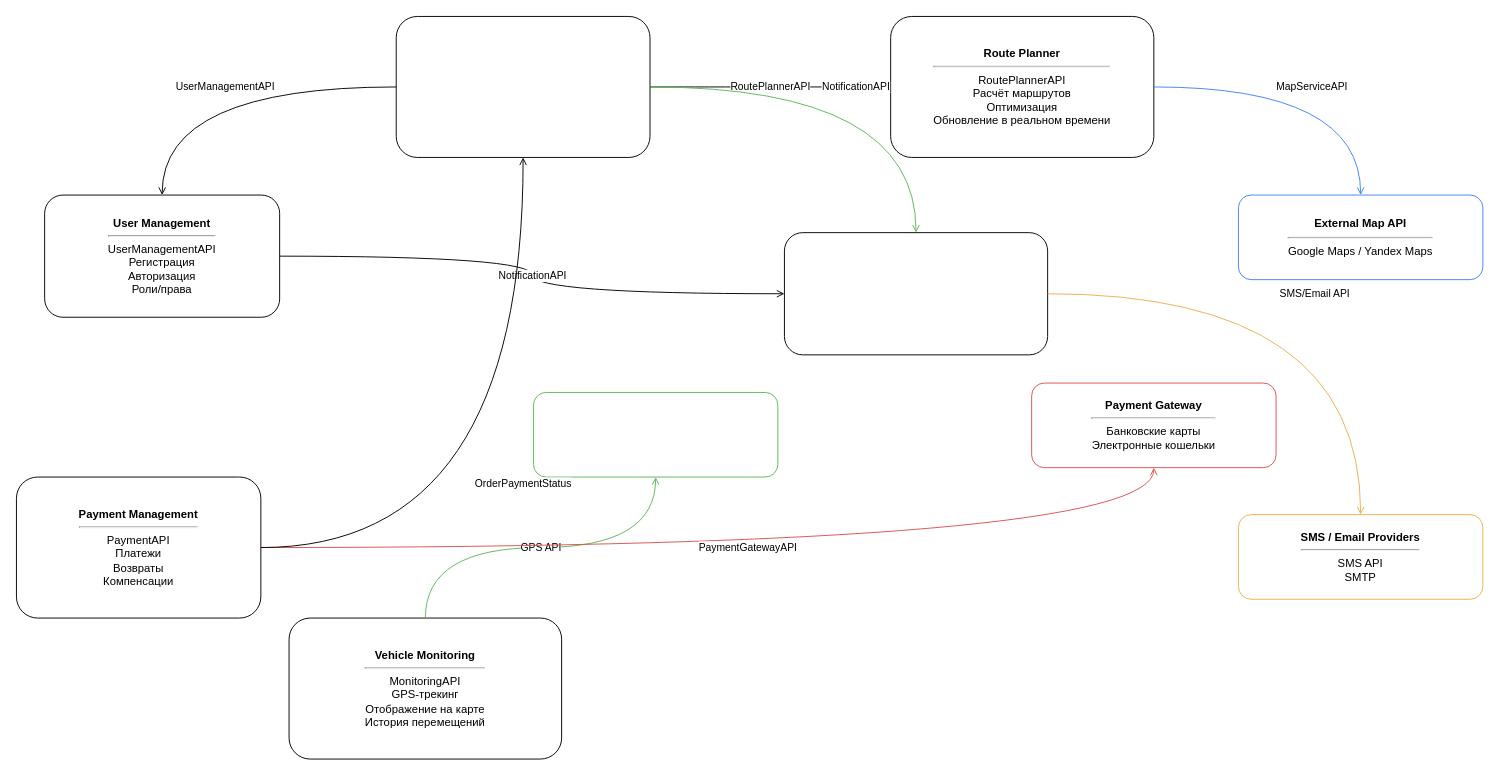
Image size: 1499x776. Some labels were removed from this diagram. Here are the shapes that lost their labels. From the top down, the box of each, then its label:
(395, 16, 650, 157): Order Management OrderManagementAPI Создание заказов Назначение водителям Отчёты
(783, 232, 1048, 355): Notification Service NotificationAPI Уведомления клиентов Уведомления водителей
(533, 392, 778, 477): GPS Tracking API GPS устройства Трекинг транспорта
